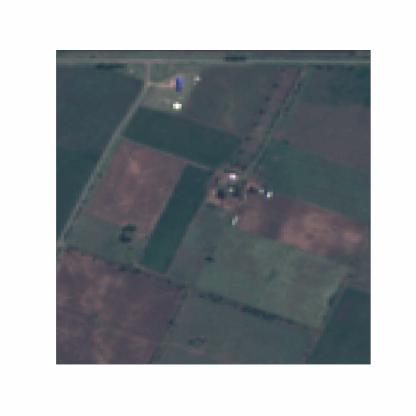silobolsa: (230, 213, 240, 226)
